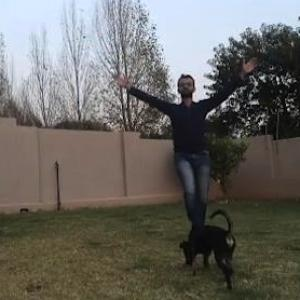takeoff: (111, 24, 299, 249)
